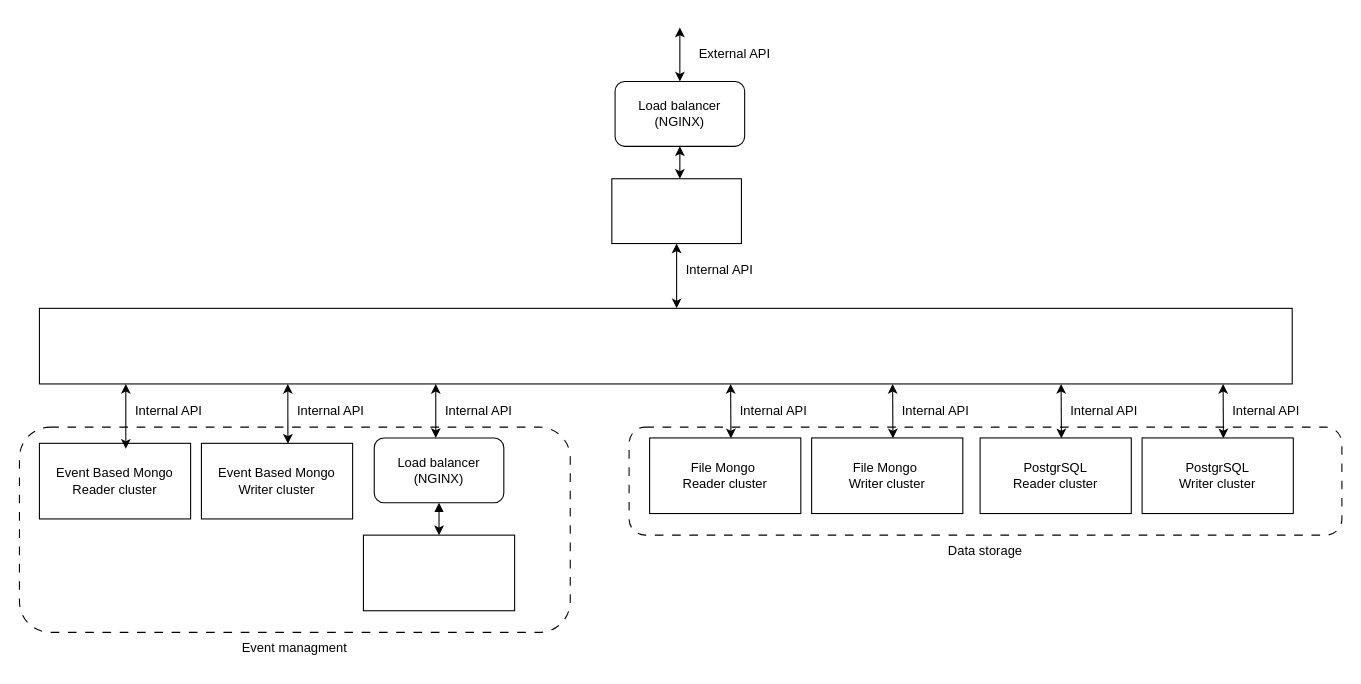
Image size: 1361x684. Some labels were removed from this diagram. The centre of each missing label's shape, as x and y in pixels:
"Control plane" belongs at point (665, 345).
"Master cluster" belongs at point (676, 211).
"Slave cluster" belongs at point (438, 572).
